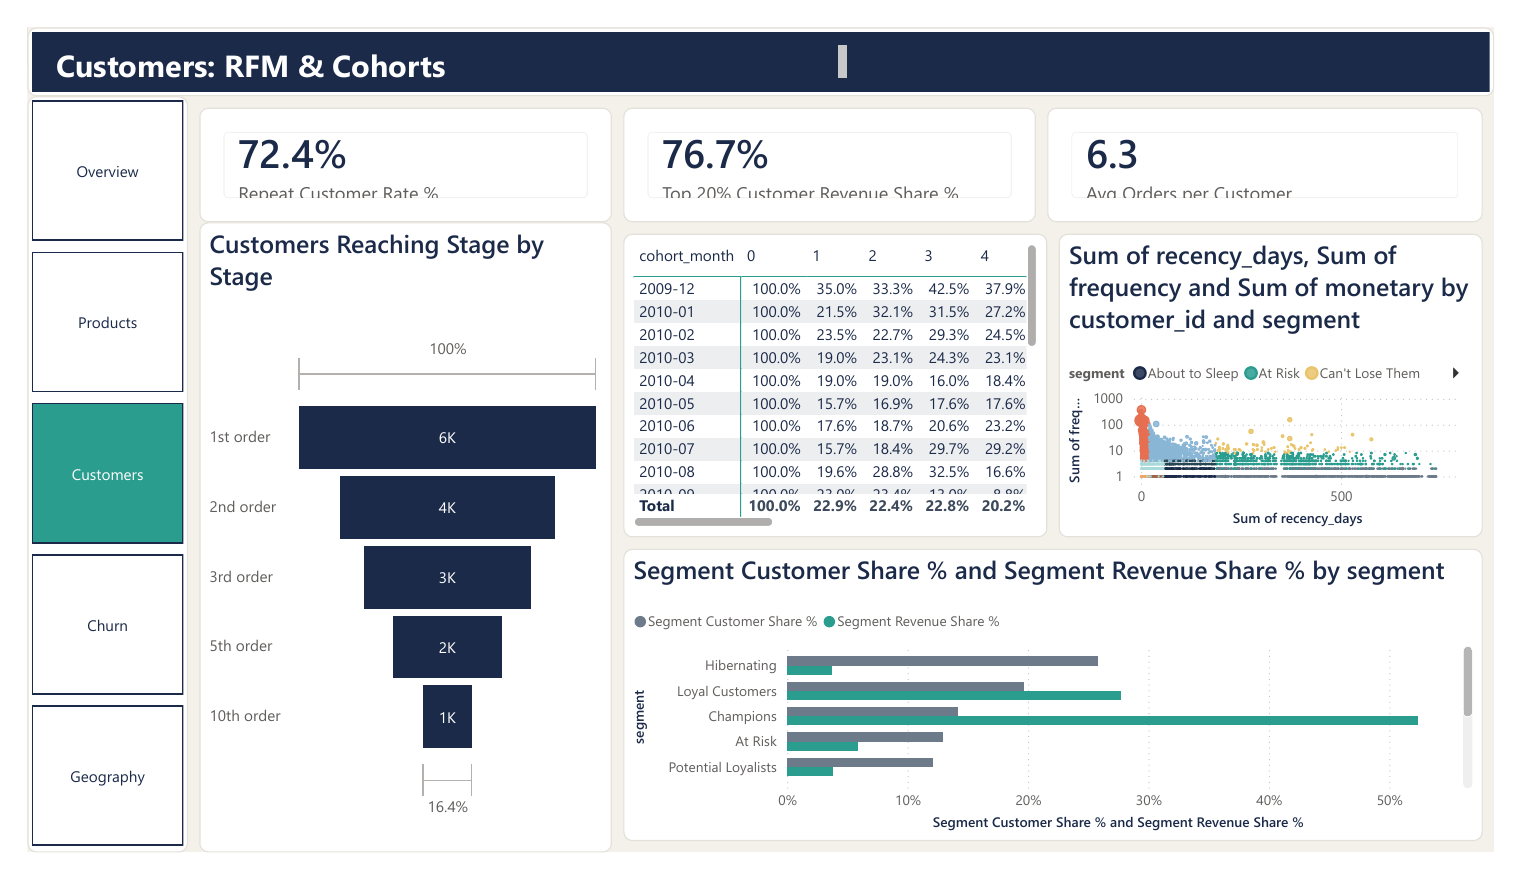

The dashboard page shown, as its layout file describes it:
{"tool":"powerbi","page":{"name":"Customers","canvas":[1280,720],"ordinal":2},"visuals":[{"type":"shape","box":[0,0,1280,60],"z":0},{"type":"textbox","box":[20,10,700,40],"z":1000},{"type":"pageNavigator","box":[0,60,140,660],"z":2000},{"type":"cardVisual","fields":{"Data":["_Measures.Repeat Customer Rate %"]},"box":[150,70,360,100],"z":2001},{"type":"cardVisual","fields":{"Data":["_Measures.Top 20% Customer Revenue Share %"]},"box":[520,70,360,100],"z":2002},{"type":"cardVisual","fields":{"Data":["_Measures.Avg Orders per Customer"]},"box":[890,70,380,100],"z":2003},{"type":"funnel","fields":{"Category":["Funnel Stages.Stage"],"Y":["_Measures.Customers Reaching Stage"]},"box":[150,170,360,550],"z":2004},{"type":"clusteredBarChart","fields":{"Category":["dim_customer.segment"],"Y":["_Measures.Segment Customer Share %","_Measures.Segment Revenue Share %"]},"box":[520,455,750,255],"z":2005},{"type":"scatterChart","fields":{"X":["Sum(dim_customer.recency_days)"],"Y":["Sum(dim_customer.frequency)"],"Size":["Sum(dim_customer.monetary)"],"Series":["dim_customer.segment"],"Category":["dim_customer.customer_id"]},"box":[900,180,370,265],"z":2006},{"type":"pivotTable","fields":{"Rows":["dim_customer.cohort_month"],"Columns":["fact_sales.cohort_index"],"Values":["_Measures.Retention %"]},"box":[520,180,370,265],"z":2007}]}

Visuals, with their boxes in screenshot pixels (x1, y1, x2, y2), scaled from the page's 1280x720 canvas onto the 1522x880 screenshot:
shape: [0,0,1521,73]
textbox: [24,12,856,61]
pageNavigator: [0,73,166,879]
cardVisual - _Measures.Repeat Customer Rate %: [178,86,606,208]
cardVisual - _Measures.Top 20% Customer Revenue Share %: [618,86,1046,208]
cardVisual - _Measures.Avg Orders per Customer: [1058,86,1510,208]
funnel - Funnel Stages.Stage x _Measures.Customers Reaching Stage: [178,208,606,879]
clusteredBarChart - dim_customer.segment x _Measures.Segment Customer Share %: [618,556,1510,868]
scatterChart - Sum(dim_customer.recency_days) x Sum(dim_customer.frequency): [1070,220,1510,544]
pivotTable - dim_customer.cohort_month x fact_sales.cohort_index: [618,220,1058,544]
